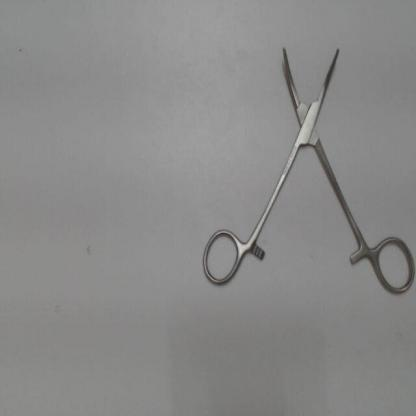Crile Artery Forceps: (198, 39, 415, 299)
